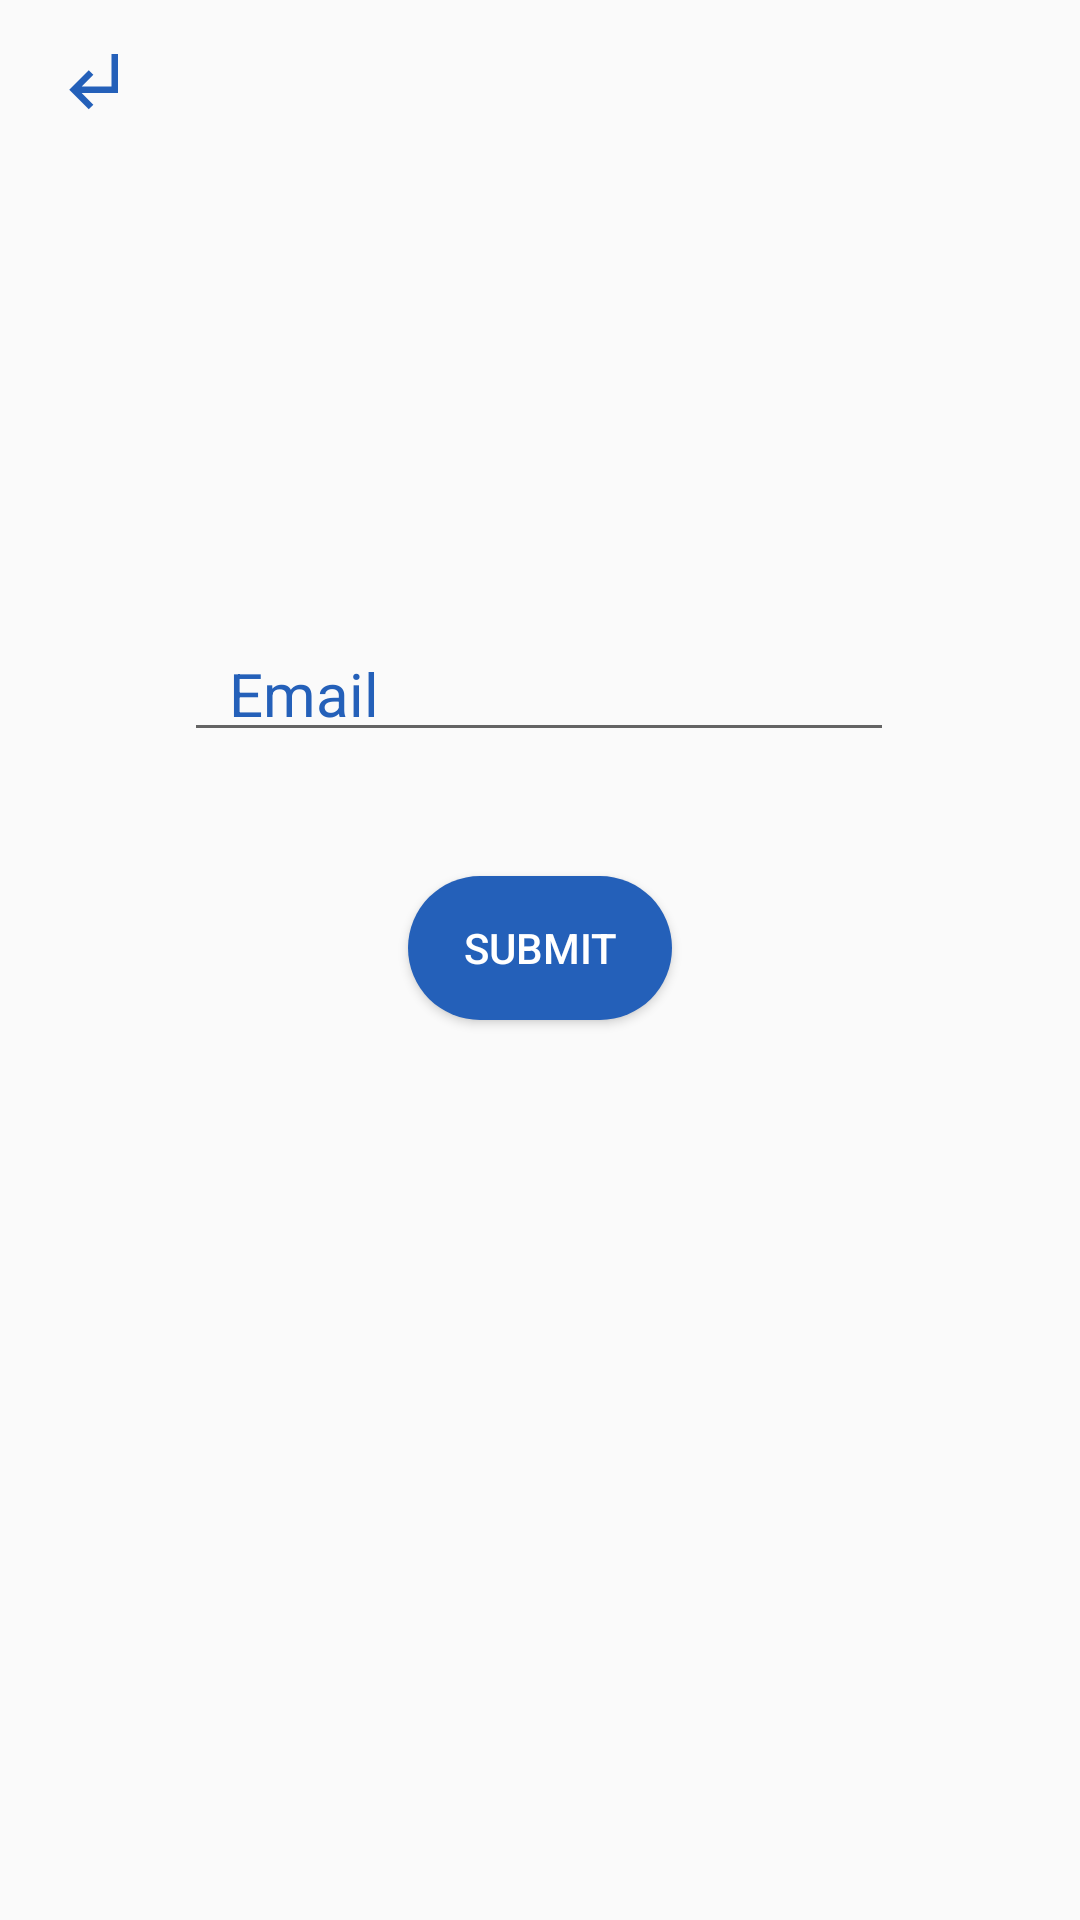

Where icons sit on this 1080 x 1920 app screen, as (x1, y1, x2, y2):
back: (69, 54, 118, 109)
